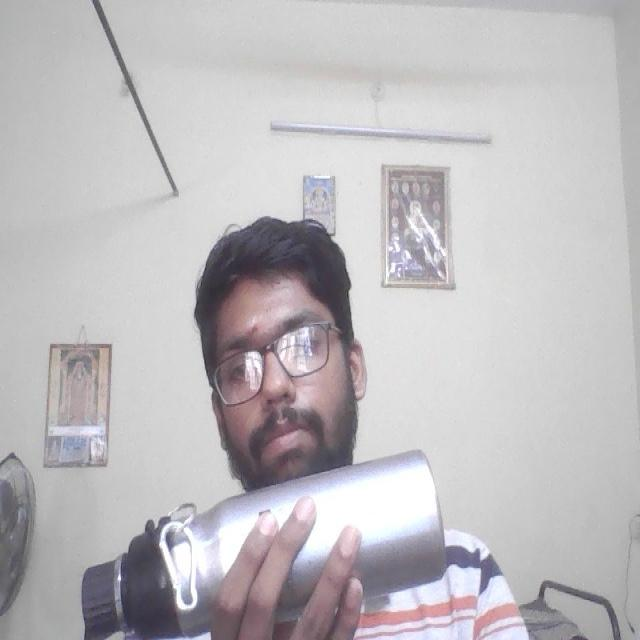Drinking: (73, 442, 451, 640)
